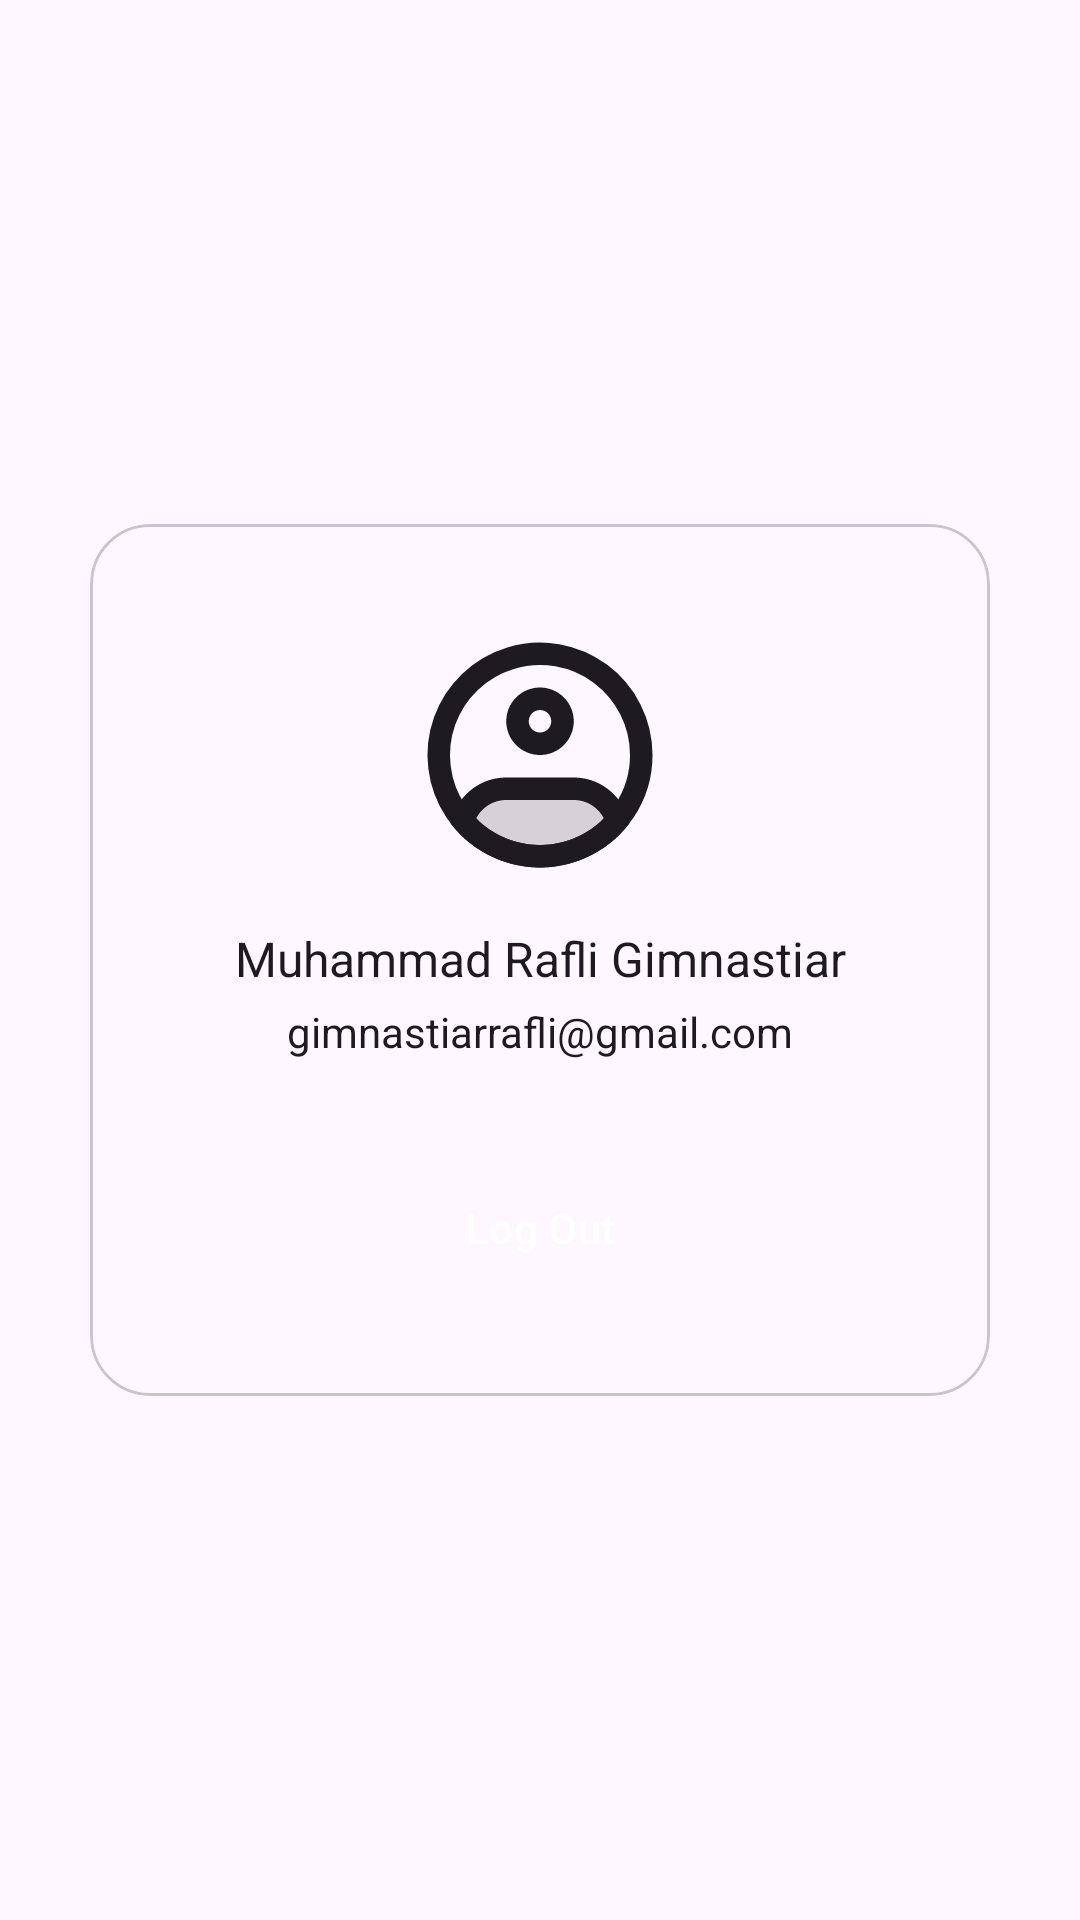

Point at icon controls on the screen. Image size 1080x1920, points as (x=x, y=y).
profile: (x=540, y=755)
